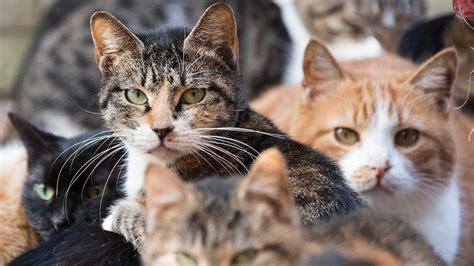cat: (90, 1, 392, 266), (301, 37, 460, 265)
